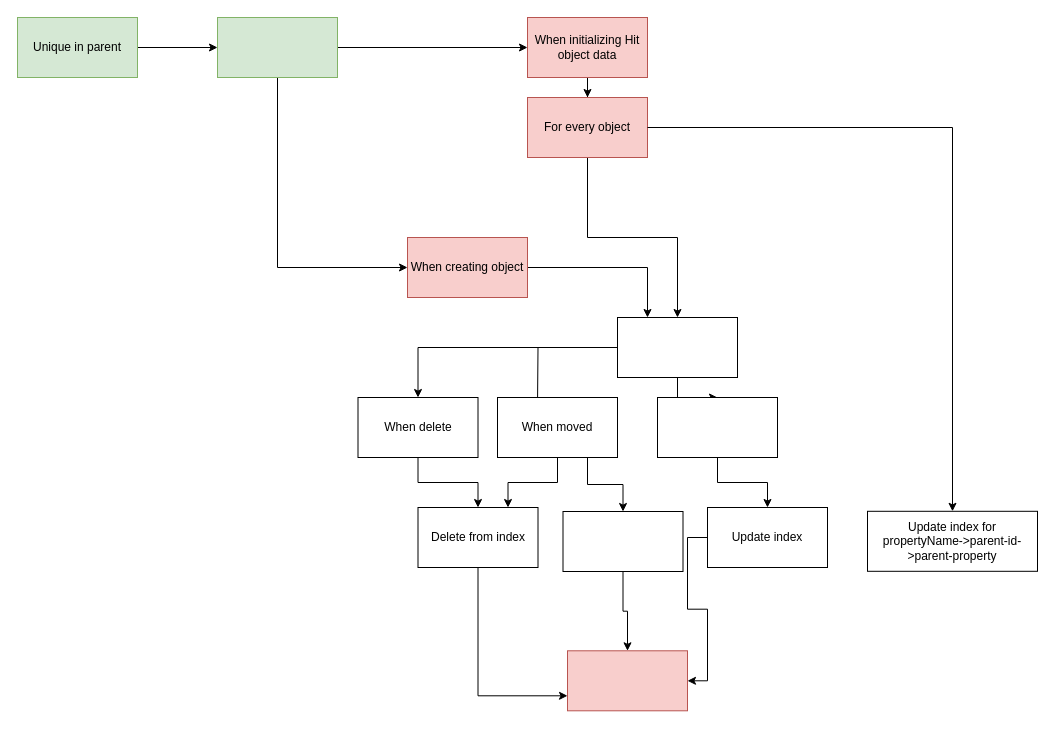
Image size: 1055x729. Some labels were removed from this diagram. The centre of each missing label's shape, as x and y in pixels:
Add in destination index: the point at 622,541
If property named the same as an indexed property: the point at 677,347
List all properties watched by uniqueonparent: the point at 277,47
Refresh unique for parent validation for every sub item: the point at 627,680
When property change: the point at 717,427
